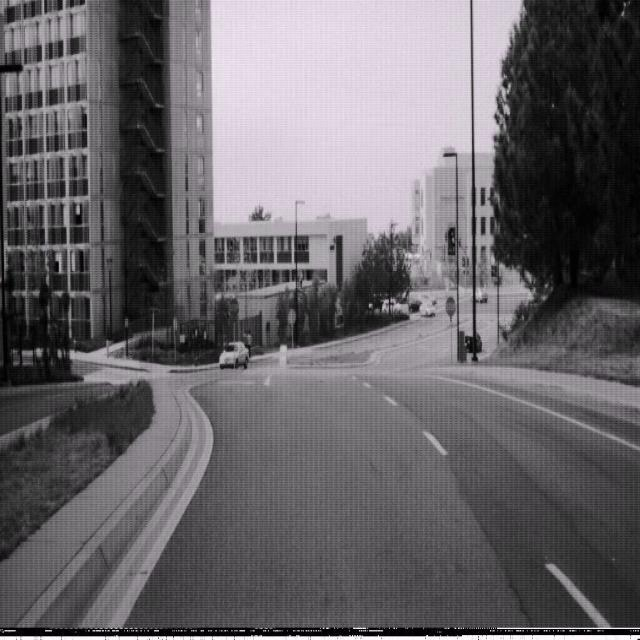stop_sign: (445, 294, 456, 318)
